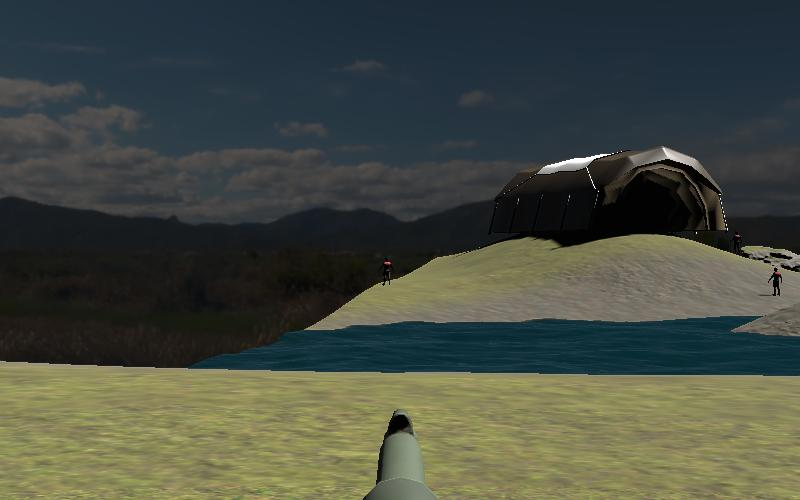Human: (766, 265, 785, 300), (377, 254, 396, 289), (729, 228, 744, 257)
